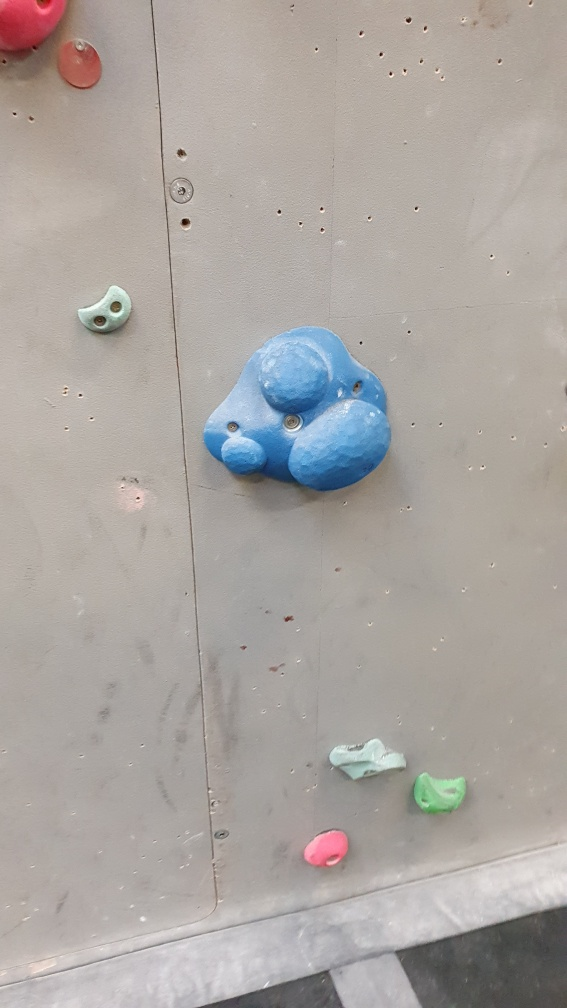Sloper: (198, 318, 392, 495)
